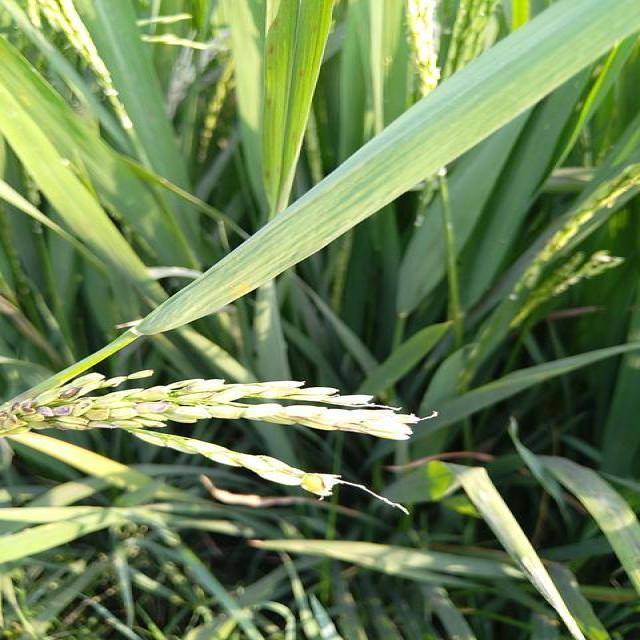Panicle Blight: (224, 403, 411, 441), (0, 371, 97, 433), (136, 381, 224, 423)
